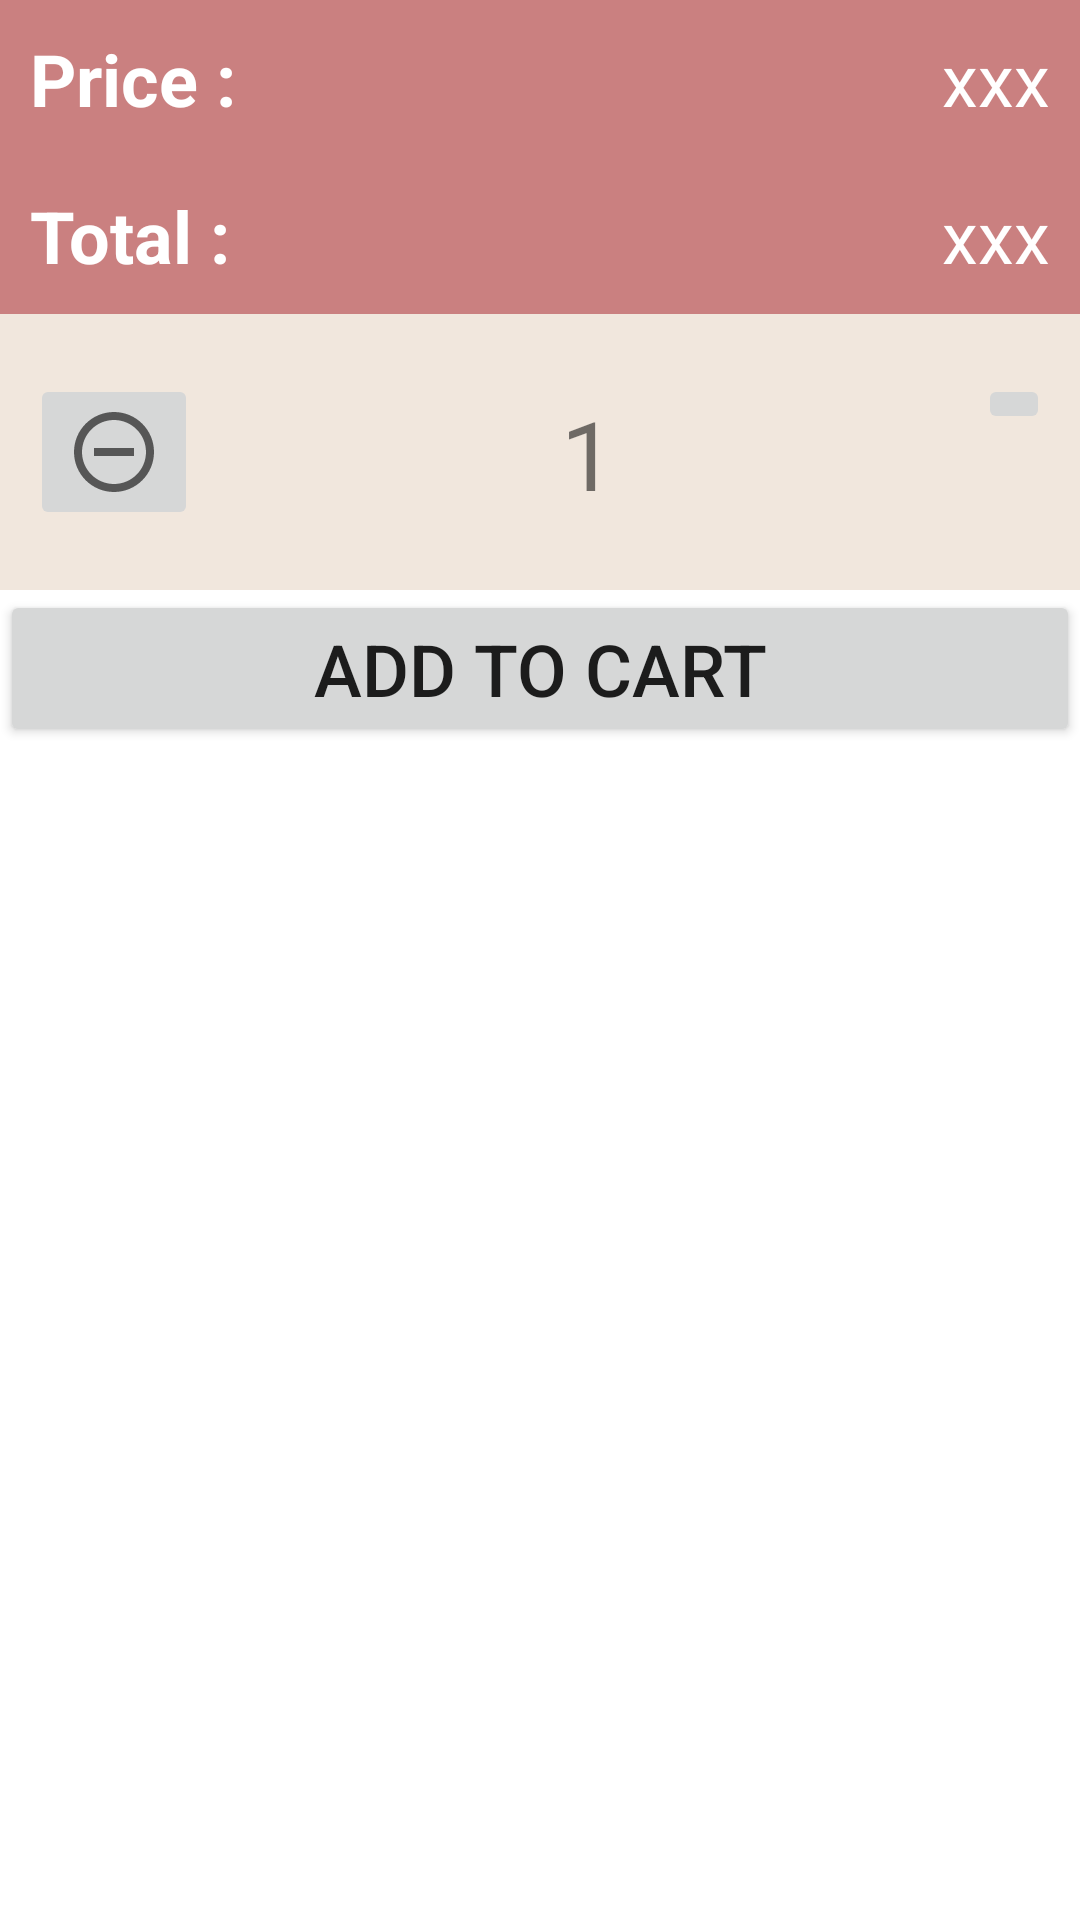

Icons on this 1080w x 1920h Android screen, each with its box as (x1, y1, x2, y2):
remove circle: (42, 392, 186, 512)
